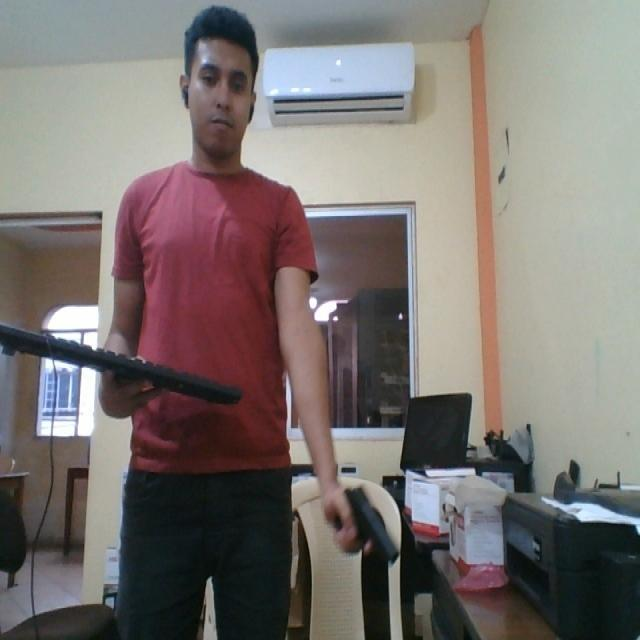weapon: (328, 488, 399, 566)
